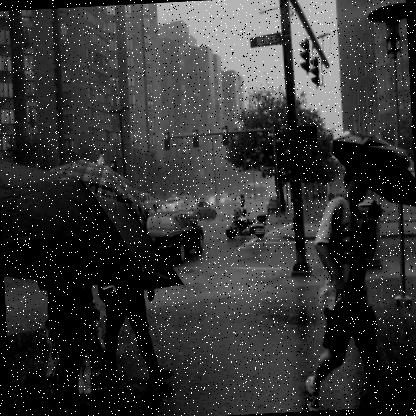Car: (147, 204, 209, 268), (178, 198, 218, 221), (138, 190, 160, 210), (265, 192, 286, 212), (160, 196, 181, 212), (180, 194, 192, 209), (218, 192, 230, 203), (228, 193, 236, 201)
